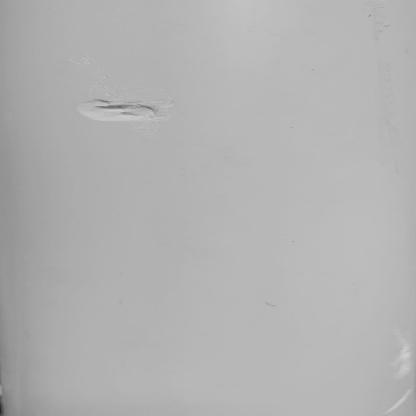sunshang: (77, 98, 161, 123), (383, 388, 416, 413), (396, 340, 414, 381)
